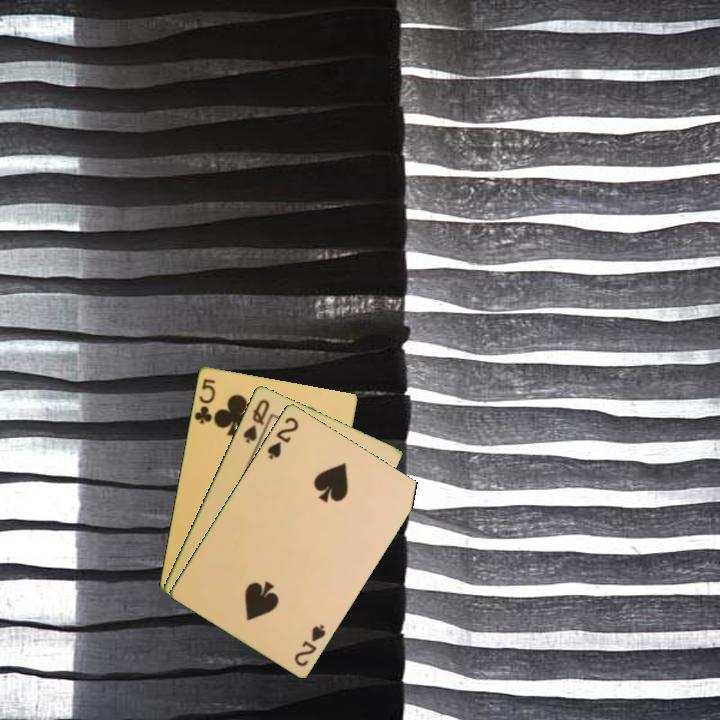2s: (263, 413, 302, 462), (290, 620, 329, 669)
5c: (191, 375, 218, 427)
Qs: (239, 395, 272, 446)
